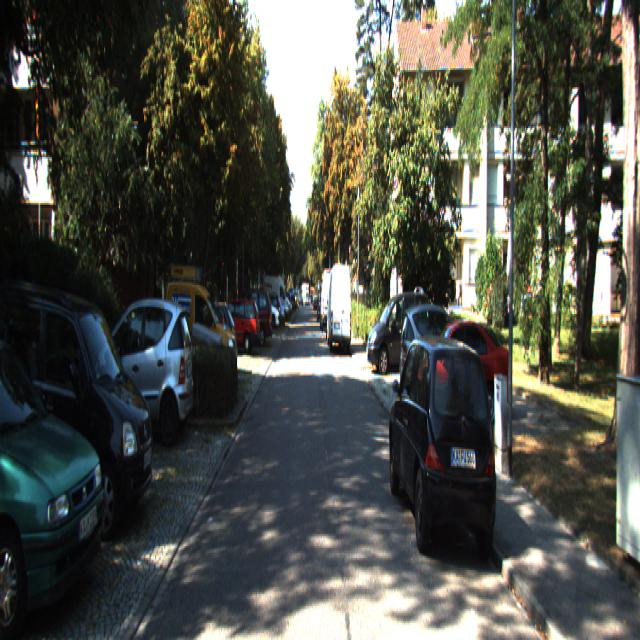Car: (0, 288, 153, 545), (0, 316, 110, 626), (386, 326, 499, 563), (87, 301, 195, 458), (408, 328, 510, 435), (166, 257, 240, 381), (399, 302, 475, 413), (367, 292, 433, 377), (208, 296, 261, 354), (190, 323, 232, 392), (227, 290, 272, 352), (327, 266, 352, 352), (261, 274, 291, 322), (322, 268, 338, 331)
